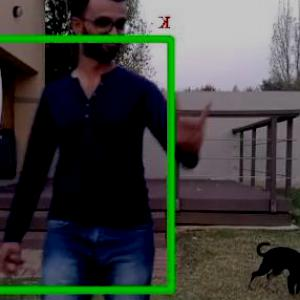takeoff-hand: (164, 89, 220, 156)
